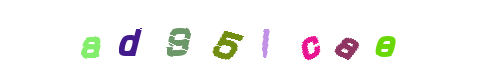5: (200, 0, 280, 80)
9: (139, 0, 219, 80)
A: (88, 0, 168, 80), (270, 0, 350, 80)
C: (251, 0, 331, 80)
D: (90, 0, 170, 80)
E: (305, 0, 385, 80)
L: (212, 0, 292, 80)
